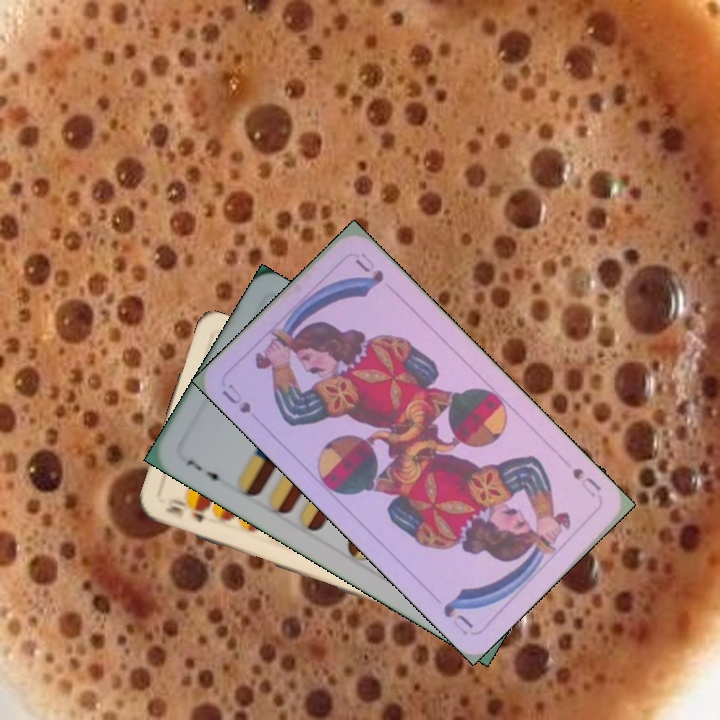E10: (161, 501, 207, 525)
E7: (182, 455, 227, 488)
SU: (218, 379, 254, 416), (568, 464, 604, 500)
